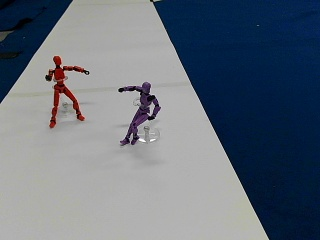pedestrian: (45, 55, 88, 126), (118, 80, 159, 144)
